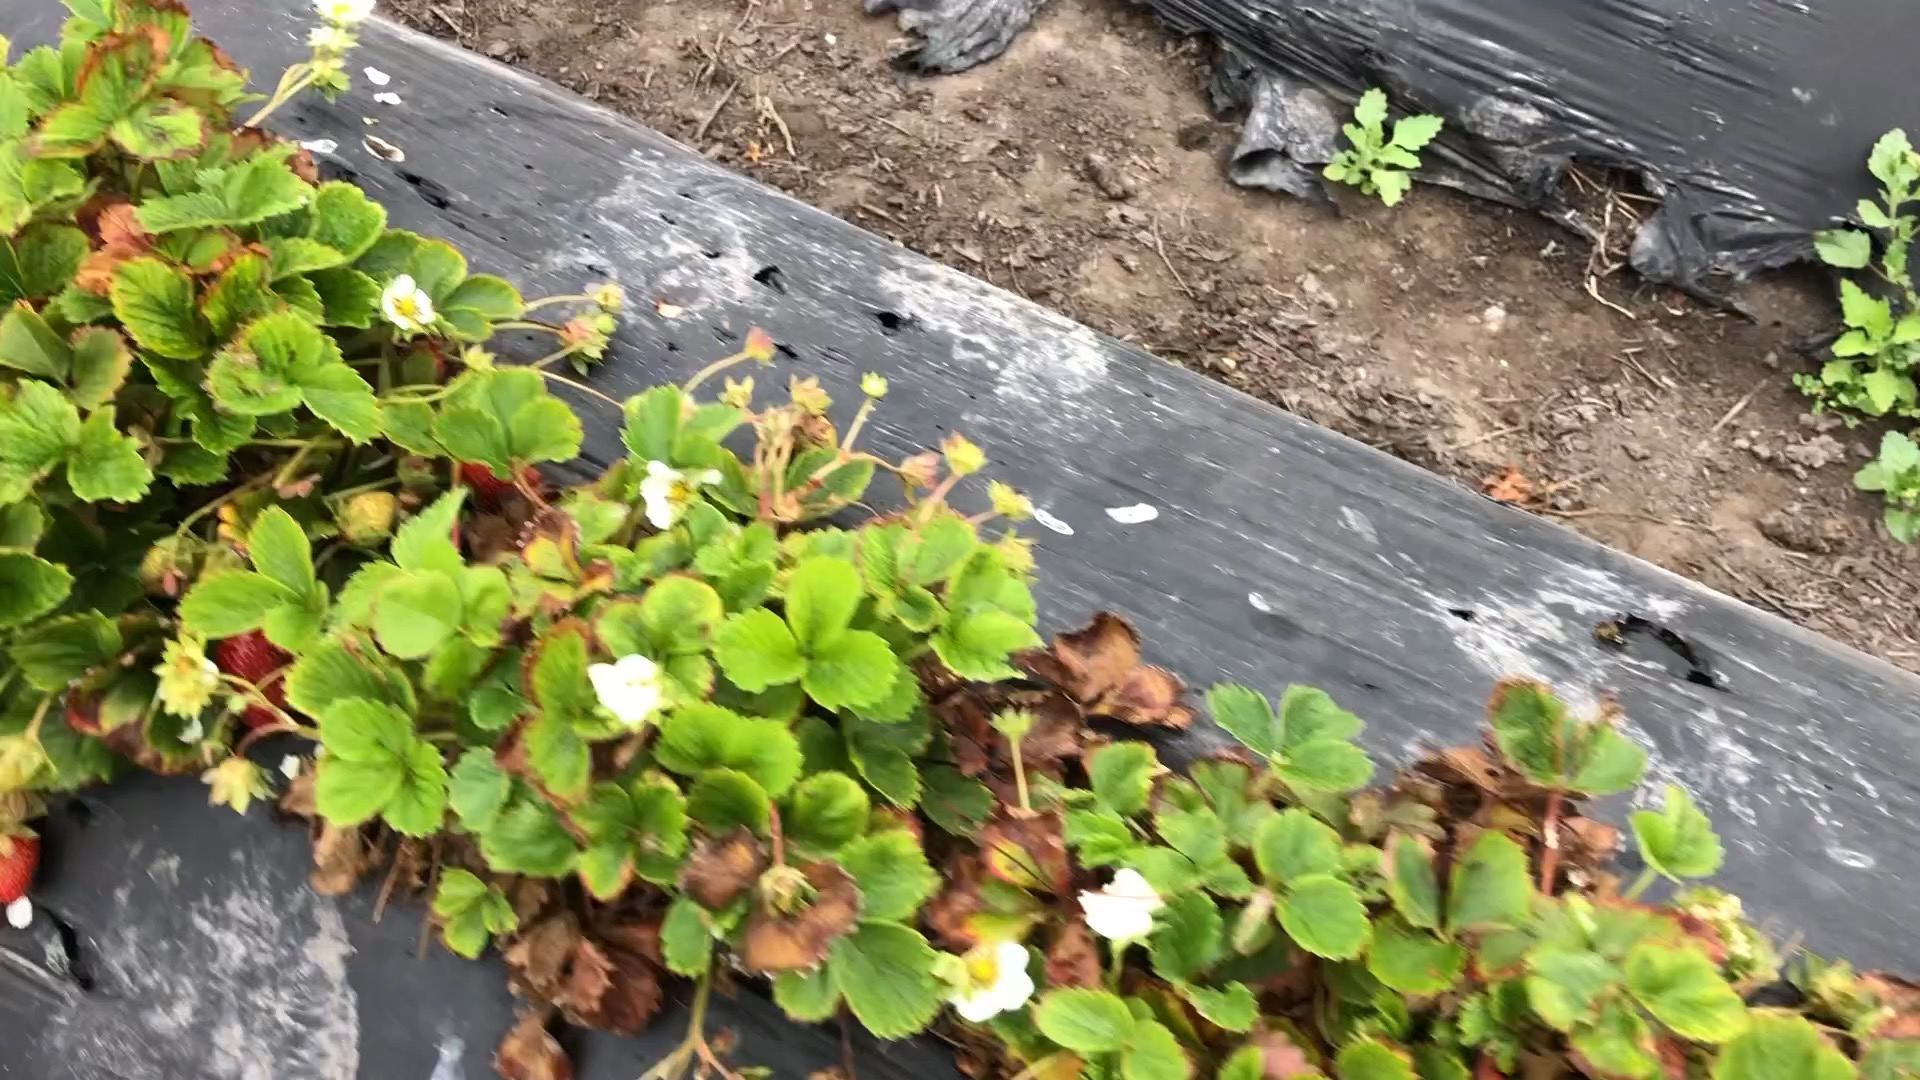ripe_strawberry: (215, 626, 295, 737), (456, 446, 545, 501)
unripe_strawberry: (1, 822, 47, 909), (338, 491, 404, 546)
